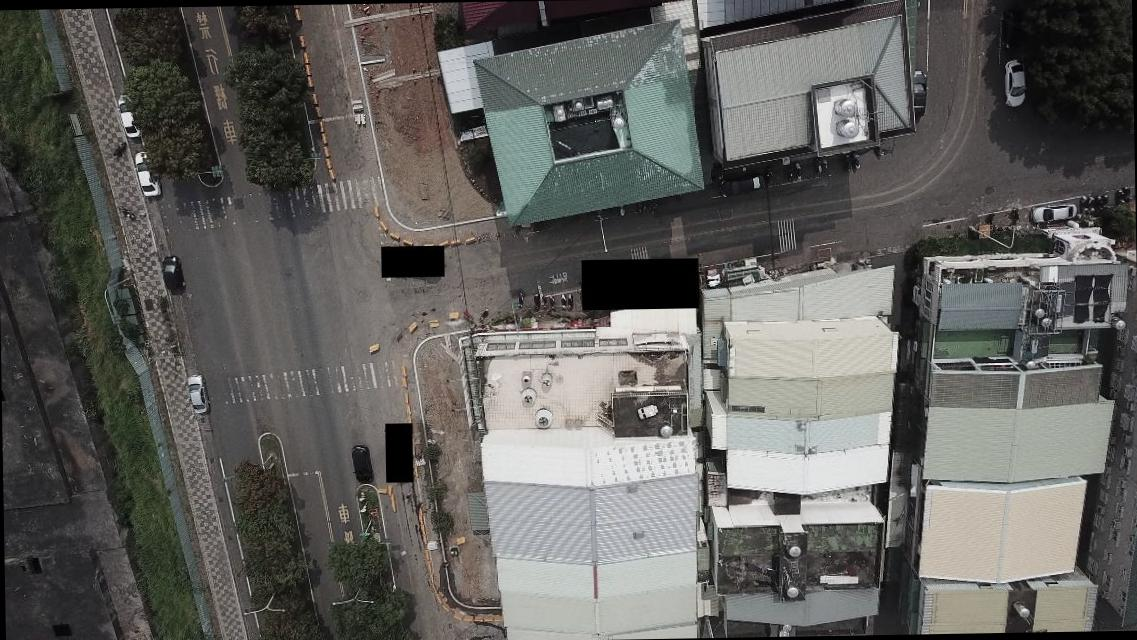vehicle: (1002, 58, 1028, 110), (136, 152, 163, 202), (114, 94, 141, 140), (1030, 201, 1077, 225), (350, 442, 374, 484), (186, 372, 210, 414), (162, 253, 184, 297), (911, 69, 926, 118)
